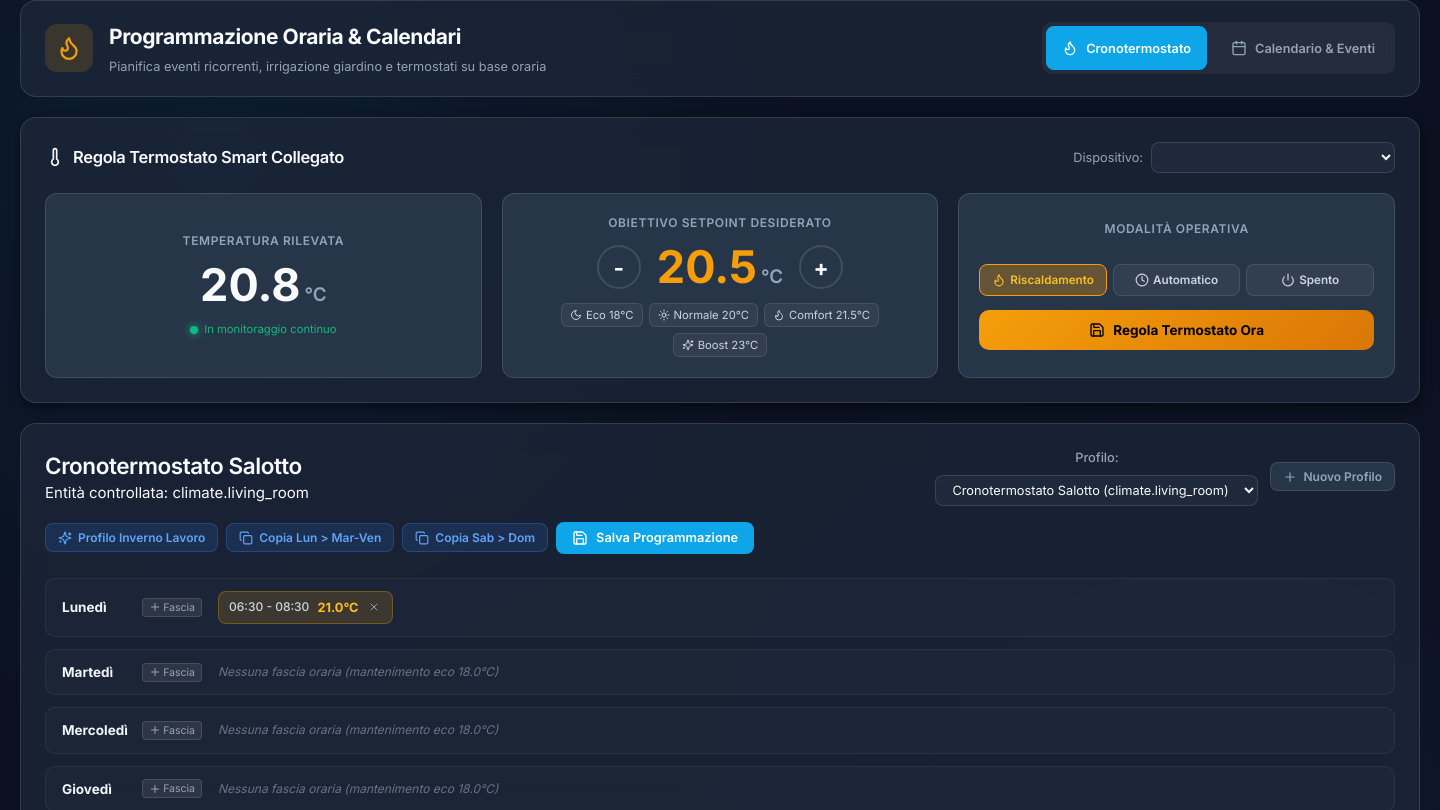
Test: ScheduleView.vue › switches to calendar view and shows events
Step 1. Click the button with class "tab-btn" showing "Calendario & Eventi" → (1303, 48), box [1215,26,1391,70]
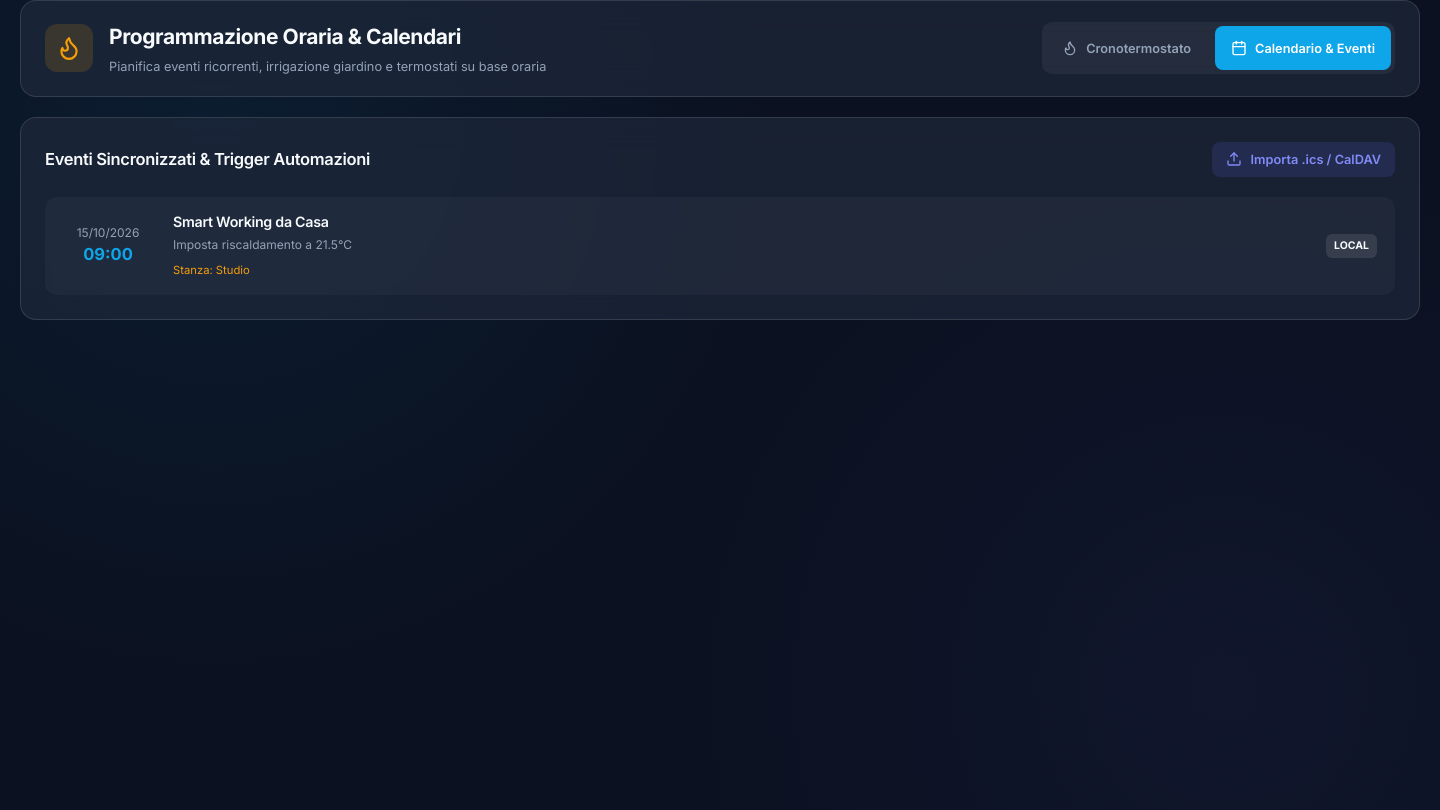
Result: the text "Eventi Sincronizzati & Trigger Automazioni" is shown at [45,147,370,172]
Result: the text "Smart Working da Casa" is shown at [173,213,329,230]
